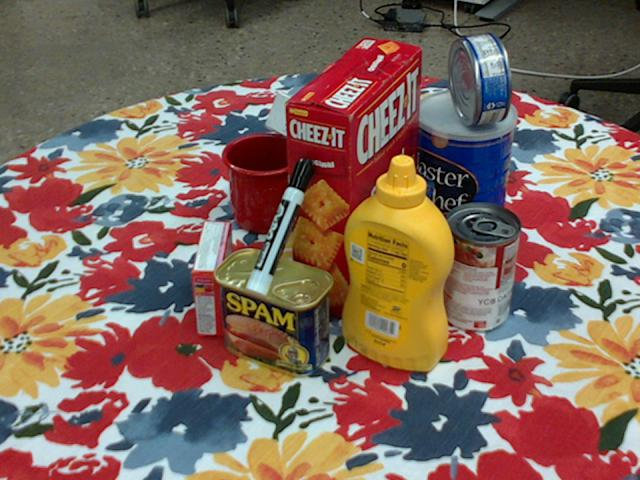cracker_box: (284, 37, 423, 319)
gelatin_box: (193, 219, 233, 335)
large_marker: (246, 156, 315, 295)
master_chef_can: (411, 90, 515, 254)
mug: (223, 133, 332, 235)
mustard_bottle: (342, 154, 455, 372)
potted_meat_can: (215, 248, 334, 377)
sugar_box: (267, 92, 425, 189)
tomato_soup_can: (439, 203, 521, 332)
tuna_fish_can: (447, 33, 512, 125)
